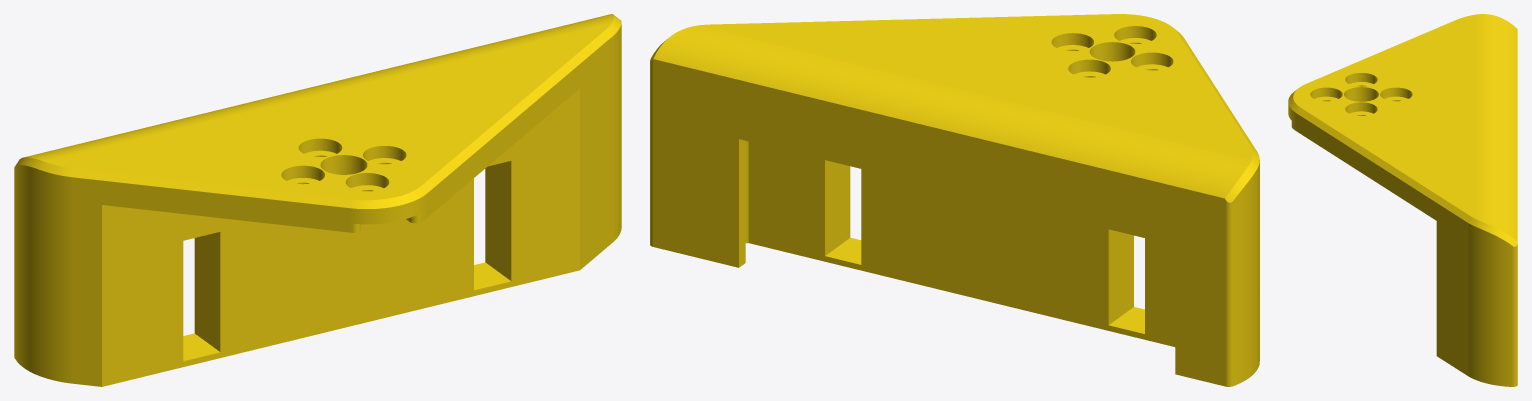
File: foot_top.gltf
3 views of the same model, side by side, from view 1: azimuth 30°, elevation 25°; view 2: azimuth 150°, elevation 25°; view 3: azimuth 270°, elevation 25° (orthographic). The views are drawn at different scales.
Parts seen in each view (by area): view 1: mesh609, mesh604, mesh580, mesh559, mesh581, mesh572, mesh611, mesh615, mesh576, mesh578, mesh573, mesh586 (+8 smaller); view 2: mesh561, mesh608, mesh604, mesh572, mesh559, mesh615, mesh611, mesh558, mesh564, mesh571, mesh593, mesh612 (+1 smaller); view 3: mesh604, mesh572, mesh581, mesh573, mesh578, mesh571, mesh593, mesh574, mesh603, mesh600, mesh596, mesh605.
Part boxes in pixels (x1=…): mesh609: x1=102, y1=88, x2=579, y2=386; mesh604: x1=46, y1=24, x2=610, y2=200; mesh580: x1=73, y1=177, x2=349, y2=386; mesh559: x1=14, y1=165, x2=72, y2=383; mesh581: x1=427, y1=36, x2=613, y2=269; mesh572: x1=25, y1=14, x2=614, y2=161; mesh611: x1=485, y1=161, x2=511, y2=280; mesh615: x1=194, y1=232, x2=220, y2=351; mesh576: x1=73, y1=168, x2=351, y2=208; mesh578: x1=421, y1=29, x2=612, y2=193; mesh573: x1=613, y1=24, x2=621, y2=241; mesh586: x1=350, y1=194, x2=426, y2=232; mesh561: x1=653, y1=59, x2=1225, y2=386; mesh608: x1=748, y1=141, x2=1175, y2=346; mesh604: x1=700, y1=14, x2=1253, y2=159; mesh572: x1=653, y1=25, x2=1251, y2=198; mesh559: x1=1233, y1=160, x2=1259, y2=385; mesh615: x1=1108, y1=229, x2=1133, y2=324; mesh611: x1=825, y1=160, x2=850, y2=255; mesh558: x1=1225, y1=200, x2=1232, y2=386; mesh564: x1=739, y1=139, x2=745, y2=267; mesh571: x1=650, y1=59, x2=653, y2=246; mesh593: x1=1089, y1=42, x2=1135, y2=61; mesh612: x1=825, y1=237, x2=861, y2=264; mesh604: x1=1293, y1=14, x2=1476, y2=219; mesh572: x1=1477, y1=14, x2=1517, y2=241; mesh581: x1=1296, y1=113, x2=1467, y2=375; mesh573: x1=1467, y1=222, x2=1512, y2=386; mesh578: x1=1296, y1=107, x2=1470, y2=221; mesh571: x1=1512, y1=244, x2=1517, y2=386; mesh593: x1=1344, y1=87, x2=1378, y2=101; mesh574: x1=1473, y1=220, x2=1517, y2=246; mesh603: x1=1345, y1=102, x2=1377, y2=113; mesh600: x1=1380, y1=87, x2=1412, y2=98; mesh596: x1=1310, y1=87, x2=1342, y2=98; mesh605: x1=1345, y1=73, x2=1377, y2=83.
Size of the model in its own units: 0.1035 by 0.0349 by 0.046.
